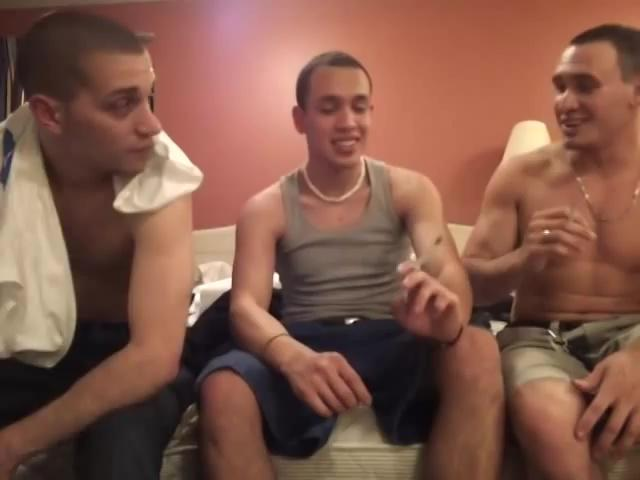cigarette: (405, 238, 442, 274), (561, 202, 585, 224)
